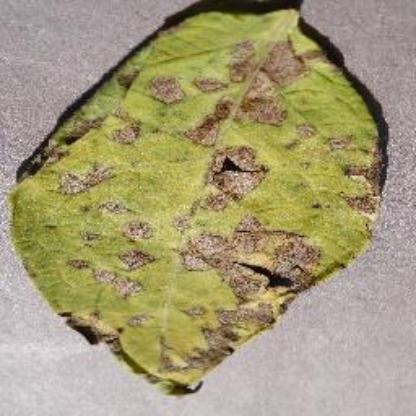Early-Blight: (9, 0, 406, 402)
